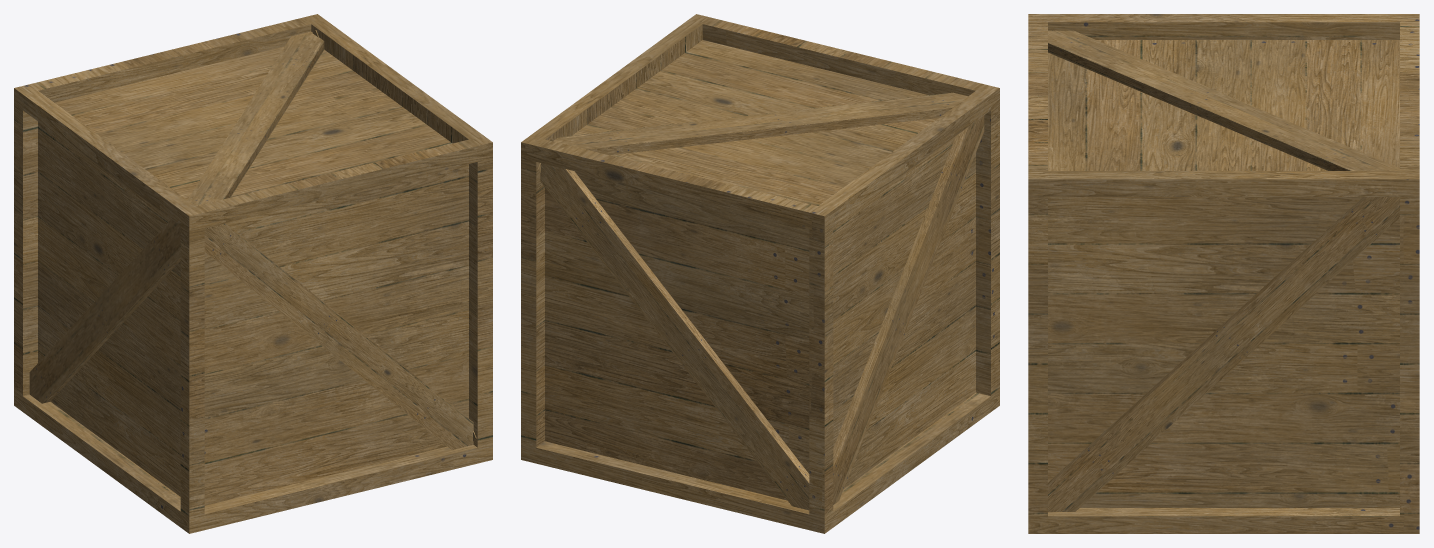
Rendered from crate_02.glb.
3 renders of one model, left to right at view 1: azimuth 30°, elevation 25°; view 2: azimuth 150°, elevation 25°; view 3: azimuth 270°, elevation 25°, orthographic. The views are drawn at different scales.
Visible parts, largest first — view 1: crate_mesh, crate_cross.001, crate_cross.002, crate_cross.004; view 2: crate_mesh, crate_cross, crate_cross.002, crate_cross.004; view 3: crate_mesh, crate_cross.003, crate_cross.004.
Part boxes in pixels (<box>): crate_mesh: <box>14,14,492,533</box>; crate_cross.001: <box>204,223,473,449</box>; crate_cross.002: <box>29,219,180,403</box>; crate_cross.004: <box>187,31,324,205</box>; crate_mesh: <box>521,14,999,533</box>; crate_cross: <box>540,163,809,510</box>; crate_cross.002: <box>833,115,984,504</box>; crate_cross.004: <box>553,92,967,155</box>; crate_mesh: <box>1028,14,1419,533</box>; crate_cross.003: <box>1048,197,1399,511</box>; crate_cross.004: <box>1048,30,1399,170</box>.
Bounding box in the file's own units: 2 × 2 × 2.
Materials: 2 (2 with a texture image).
